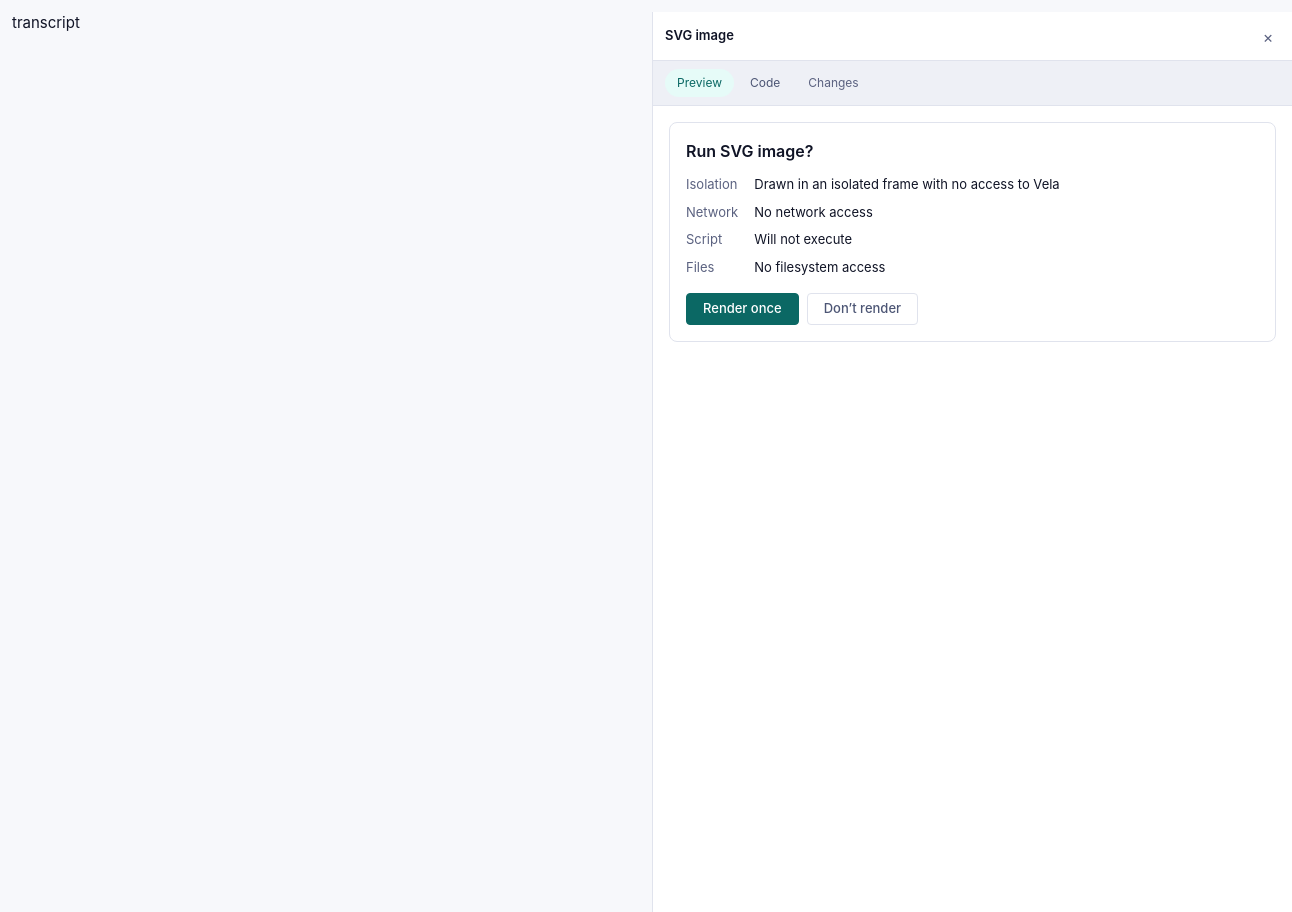
Test: an artifact in an answer opens a panel › draws nothing at all when the person says no
What coordinates should you click on to do the following:
click the button "Don’t render"
I would click on:
 (862, 309)
Its box is [807,293,918,325].
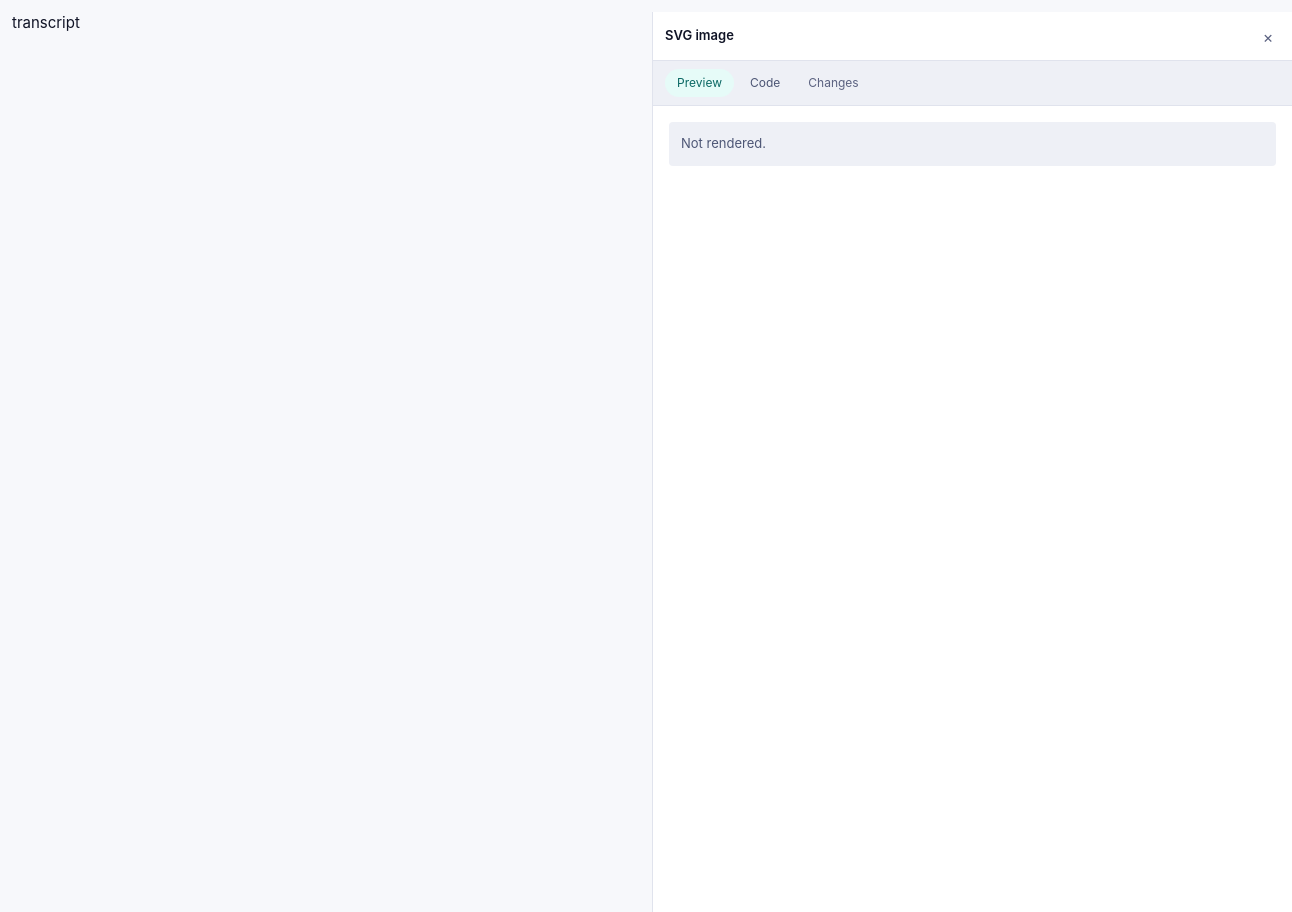
Expected: the text with test id "canvas-notice" reads "Not rendered.", [681,135,766,151]
